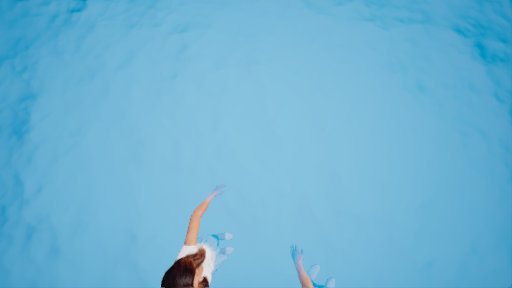person: (162, 187, 244, 288), (284, 244, 336, 288)
